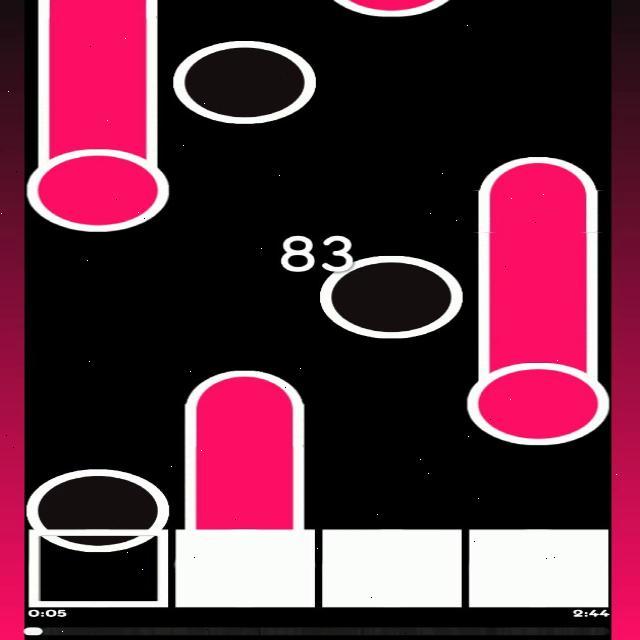end_hold: (478, 134, 602, 198), (185, 353, 306, 413)
note: (174, 40, 318, 124), (322, 255, 464, 339), (28, 468, 169, 550)
start_hold: (468, 343, 612, 446), (28, 133, 170, 233)
